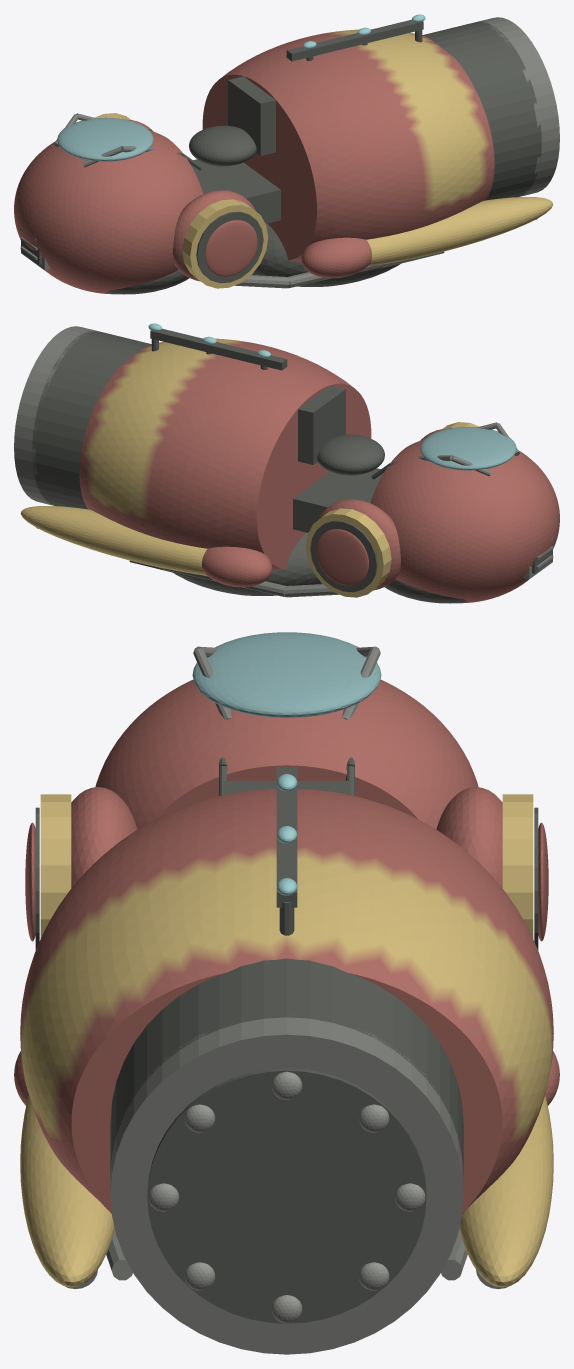
The model's file is unibomba_red_off.glb.
3 views of the same model, one above another, from view 1: azimuth 30°, elevation 25°; view 2: azimuth 150°, elevation 25°; view 3: azimuth 270°, elevation 25° (orthographic). The views are drawn at different scales.
Parts seen in each view (by area): view 1: hull_rear_0, nose_1, engine_rear_housing_17, side_skid_12, main_engine_rim_18, windscreen_6, cockpit_chassis_3, seat_back_5, nacelle_gold_rim_9, skid_nose_13, nacelle_hub_11, seat_4 (+7 smaller); view 2: hull_rear_0, nose_1, engine_rear_housing_17, side_skid_12, main_engine_rim_18, windscreen_6, cockpit_chassis_3, seat_back_5, nacelle_gold_rim_9, skid_nose_13, nacelle_hub_11, seat_4 (+7 smaller); view 3: hull_rear_0, main_engine_dark_interior_19, main_engine_rim_18, nose_1, engine_rear_housing_17, side_skid_12, windscreen_6, nose_side_nacelle_8, nacelle_gold_rim_9, engine_vane_20, top_ridge_22, nacelle_hub_11 (+6 smaller).
Part boxes in pixels (x1,y1,x2,y2): hull_rear_0: (202,29,494,261); nose_1: (14,130,203,294); engine_rear_housing_17: (422,21,541,200); side_skid_12: (366,197,553,266); main_engine_rim_18: (474,17,559,196); windscreen_6: (57,117,153,161); cockpit_chassis_3: (190,159,280,223); seat_back_5: (228,76,275,155); nacelle_gold_rim_9: (95,113,268,288); skid_nose_13: (301,237,371,278); nacelle_hub_11: (205,220,257,276); seat_4: (189,125,256,166); hull_rear_0: (79,338,371,570); nose_1: (370,439,559,603); engine_rear_housing_17: (32,330,151,509); side_skid_12: (20,506,207,575); main_engine_rim_18: (14,326,100,505); windscreen_6: (420,426,516,470); cockpit_chassis_3: (293,468,383,532); seat_back_5: (298,385,345,464); nacelle_gold_rim_9: (305,422,478,597); skid_nose_13: (202,546,272,587); nacelle_hub_11: (316,529,368,585); seat_4: (317,434,384,475); hull_rear_0: (20,788,553,1213); main_engine_dark_interior_19: (147,1068,426,1323); main_engine_rim_18: (110,1014,463,1354); nose_1: (95,680,478,829); engine_rear_housing_17: (110,958,463,1176); side_skid_12: (20,1095,553,1287); windscreen_6: (192,632,381,717); nose_side_nacelle_8: (71,787,502,888); nacelle_gold_rim_9: (40,794,533,938); engine_vane_20: (148,1071,425,1323); top_ridge_22: (276,767,297,907); nacelle_hub_11: (25,822,548,941).
Size of the model in its own units: 5.45 by 2.47 by 2.66.
